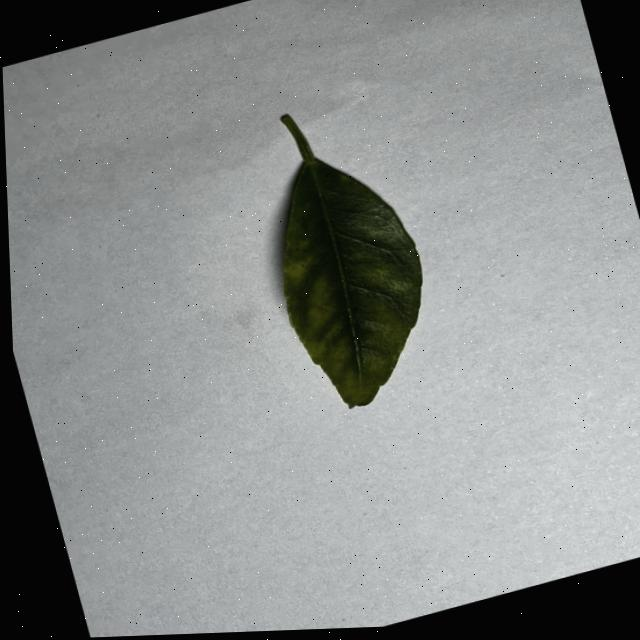greening: (280, 114, 421, 406)
